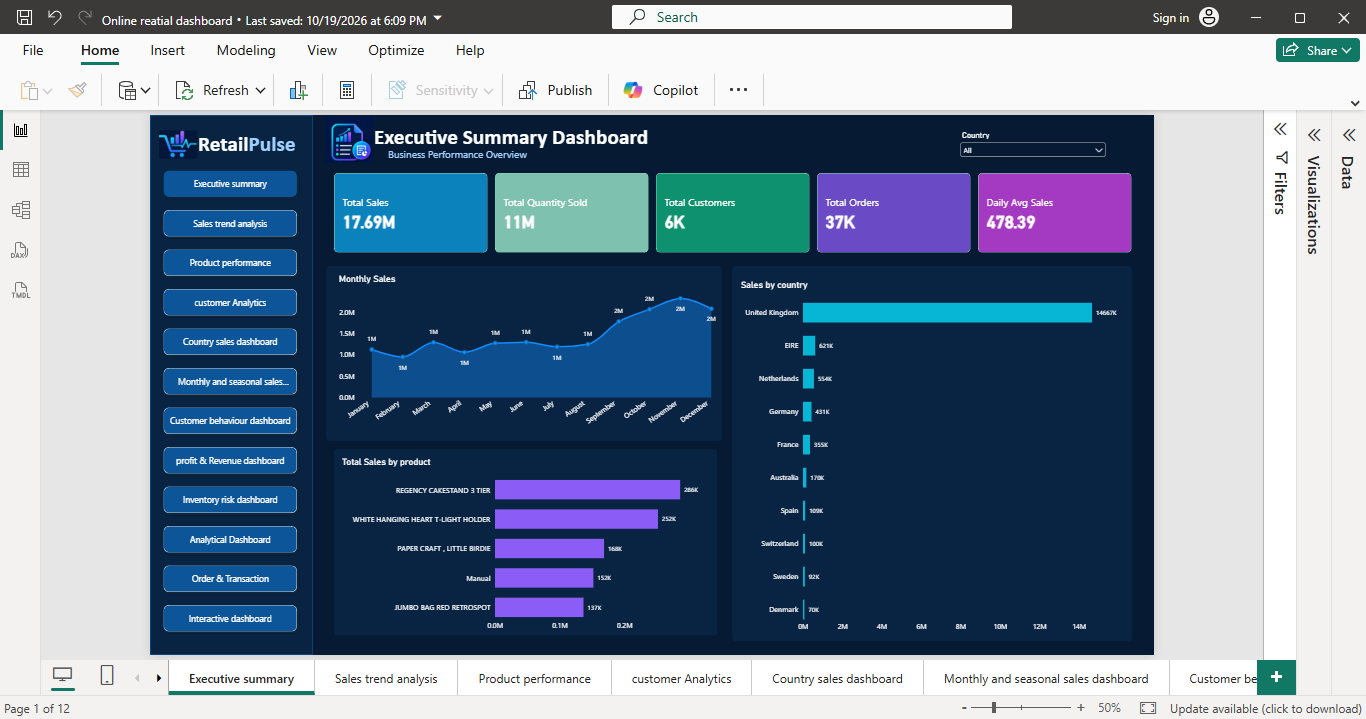

Layout of this report page (visuals, bound fields, positions):
{"tool":"powerbi","page":{"name":"Executive summary","canvas":[2007,1080],"ordinal":0},"visuals":[{"type":"shape","box":[0,0,326.2,1080],"z":0},{"type":"shape","box":[352.1,667.4,792.7,373.7],"z":1000},{"type":"textbox","box":[95,30.9,232.1,70.7],"z":2000},{"type":"textbox","box":[447.1,15.1,572.4,69.1],"z":3000},{"type":"shape","box":[352.1,302.4,792.7,349.9],"z":4000},{"type":"cardVisual","fields":{"Data":["Factsales.Total Sales","Factsales.Total Quantity Sold","Factsales.Total Customers","Factsales.Total Orders","Factsales.Daily Avg Sales"]},"box":[367.2,116.6,1598.4,159.8],"z":5000},{"type":"lineChart","title":"Monthly Sales","fields":{"Category":["Factsales.Time.Variation.Date Hierarchy.Month"],"Y":["Factsales.Total Sales"]},"box":[362.9,302.4,801.4,349.9],"z":6000},{"type":"shape","box":[1164.2,302.9,800.7,750.6],"z":7000},{"type":"clusteredBarChart","title":"Sales by country","fields":{"Category":["Factsales.Country"],"Y":["Factsales.Total Sales"]},"box":[1166.8,313.4,798.1,740.1],"z":8000},{"type":"clusteredBarChart","title":"Total Sales by product","fields":{"Category":["Factsales.Description"],"Y":["Factsales.Total Sales"]},"box":[367.2,667.4,760.3,384.5],"z":9000},{"type":"textbox","box":[475.2,67,313.2,49.7],"z":10000},{"type":"slicer","fields":{"Values":["Factsales.Country"]},"box":[1615.7,30.2,300.2,71.3],"z":11000},{"type":"pageNavigator","box":[17.7,101.7,285.1,948.2],"z":12000},{"type":"image","box":[17.7,15.5,77.4,86.2],"z":13000},{"type":"image","box":[349.2,0,97.3,97.3],"z":14000}]}

Visuals, with their boxes on the page's 2007x1080 design canvas (x1, y1, x2, y2). These are canvas units, not pixel positions in the 1366x719 screenshot, which may show the page scaled, cropped or inside an application window:
shape: l=0, t=0, r=326, b=1080
shape: l=352, t=667, r=1145, b=1041
textbox: l=95, t=31, r=327, b=102
textbox: l=447, t=15, r=1020, b=84
shape: l=352, t=302, r=1145, b=652
cardVisual - Factsales.Total Sales x Factsales.Total Quantity Sold: l=367, t=117, r=1966, b=276
"Monthly Sales" lineChart: l=363, t=302, r=1164, b=652
shape: l=1164, t=303, r=1965, b=1054
"Sales by country" clusteredBarChart: l=1167, t=313, r=1965, b=1054
"Total Sales by product" clusteredBarChart: l=367, t=667, r=1128, b=1052
textbox: l=475, t=67, r=788, b=117
slicer - Factsales.Country: l=1616, t=30, r=1916, b=102
pageNavigator: l=18, t=102, r=303, b=1050
image: l=18, t=16, r=95, b=102
image: l=349, t=0, r=446, b=97
